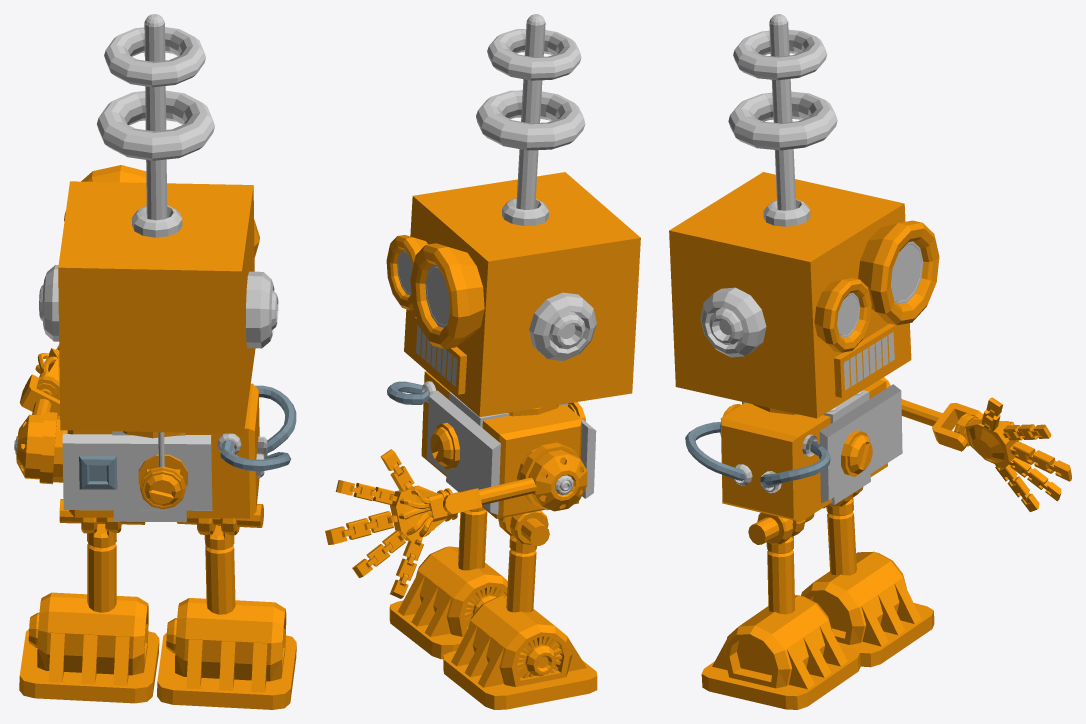
3 renders of one model, left to right at view 1: azimuth 30°, elevation 25°; view 2: azimuth 150°, elevation 25°; view 3: azimuth 270°, elevation 25°, orthographic. The views are drawn at different scales.
Visible parts, largest first — view 1: group97846399, group1961268007, group2038348446, group2031160792, group1399619186, group1147486435, group1526548565, group475278586, group1483714145; view 2: group97846399, group1961268007, group2031160792, group2038348446, group475278586, group1526548565, group1147486435, group1483714145, group1399619186; view 3: group97846399, group1961268007, group2038348446, group2031160792, group475278586, group1399619186, group1147486435, group1483714145.
Part boxes in pixels (x1,y1,x2,y2): group97846399: (39,14,278,438); group1961268007: (53,383,296,522); group2038348446: (157,598,296,709); group2031160792: (19,592,159,703); group1399619186: (177,504,263,614); group1147486435: (59,499,145,612); group1526548565: (14,412,57,484); group475278586: (35,344,59,399); group1483714145: (19,374,59,415); group97846399: (386,14,640,416); group1961268007: (387,371,596,518); group2031160792: (443,596,597,709); group2038348446: (389,546,507,659); group475278586: (325,449,457,598); group1526548565: (520,442,587,511); group1147486435: (498,510,549,612); group1483714145: (443,477,536,514); group1399619186: (458,507,487,570); group97846399: (669,14,939,418); group1961268007: (685,380,902,521); group2038348446: (701,595,860,709); group2031160792: (801,551,934,667); group475278586: (954,397,1071,511); group1399619186: (748,512,814,614); group1147486435: (822,487,863,575); group1483714145: (901,399,983,451).
Bounding box in the file's own units: 1.34 × 3.46 × 2.
